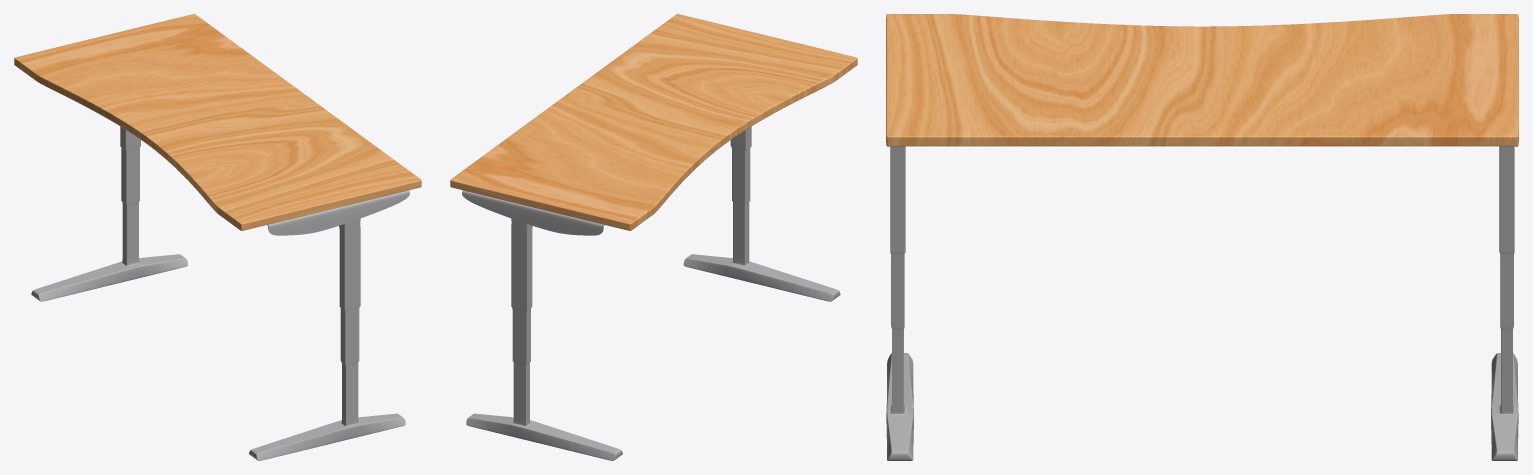
Rendered from standing_desk_1_60.45Dx131.32Wx76.96H-transformed.glb.
3 views of the same model, side by side, from view 1: azimuth 30°, elevation 25°; view 2: azimuth 150°, elevation 25°; view 3: azimuth 270°, elevation 25° (orthographic). The views are drawn at different scales.
Parts seen in each view (by area): view 1: Cube.001; view 2: Cube.001; view 3: Cube.001.
Part boxes in pixels (x1=…): Cube.001: x1=14, y1=14, x2=421, y2=460; Cube.001: x1=450, y1=14, x2=857, y2=460; Cube.001: x1=886, y1=14, x2=1518, y2=460.
Size of the model in its own units: 23.75 by 30.32 by 51.68.
3 materials, 1 textured.
